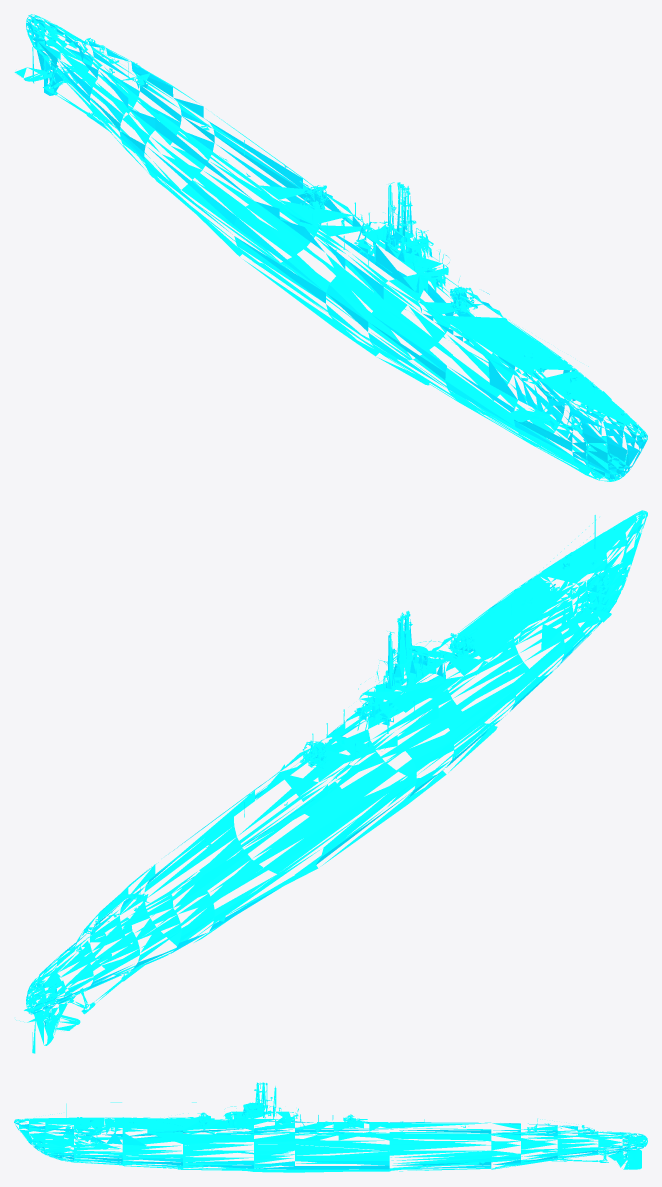
Rendered from PASS710.glb.
The picture shows the model from 3 angles, top to bottom: view 1: azimuth 30°, elevation 25°; view 2: azimuth 150°, elevation 25°; view 3: azimuth 270°, elevation 25°; orthographic projection. The views are drawn at different scales.
Parts seen in each view (by area): view 1: hull_bow, hull_mid, main_battery; view 2: hull_bow, hull_mid, main_battery; view 3: hull_bow, hull_mid, main_battery.
Part boxes in pixels (x1,y1,x2,y2): hull_bow: (26,14,647,481); hull_mid: (14,18,408,242); main_battery: (299,180,477,314); hull_bow: (26,510,647,1026); hull_mid: (15,611,408,1053); main_battery: (300,628,477,768); hull_bow: (14,1082,647,1172); hull_mid: (257,1083,645,1169); main_battery: (186,1112,367,1128).
Bounding box in the file's own units: 0.5753 × 0.9551 × 6.33.
